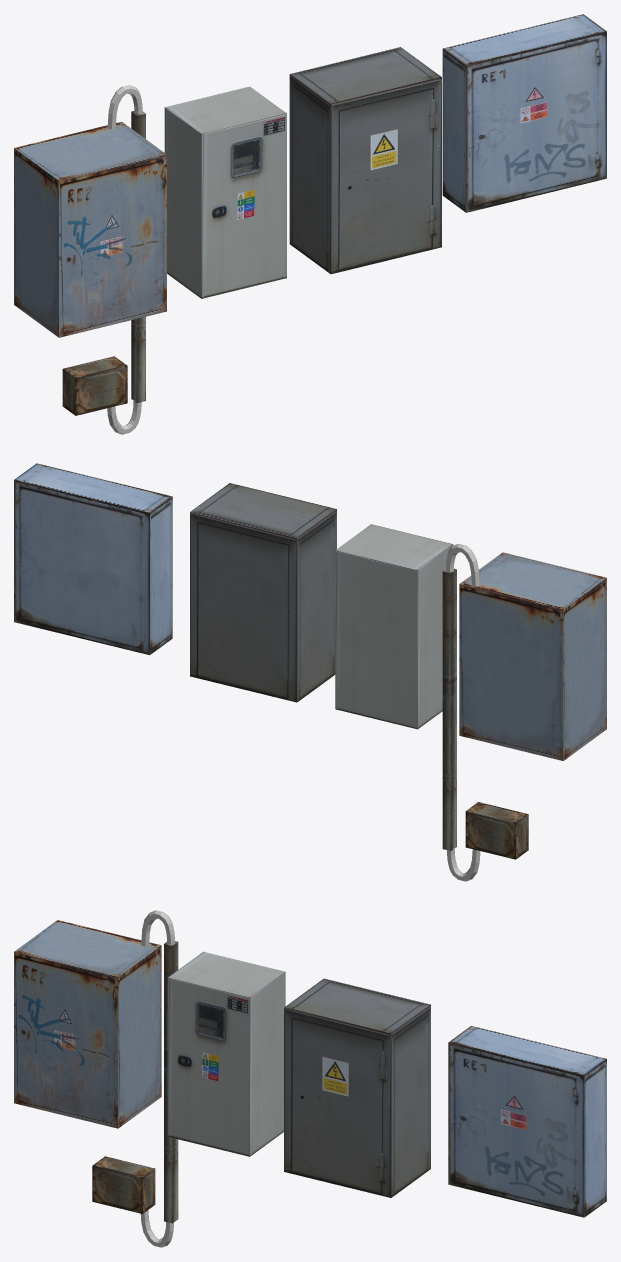
File: powerboxes.fbx
3 views of the same model, one above another, from view 1: azimuth 30°, elevation 25°; view 2: azimuth 150°, elevation 25°; view 3: azimuth 330°, elevation 25° (orthographic). The views are drawn at different scales.
Parts seen in each view (by area): view 1: pb1side0, pb2front0, pb4front0, pb3front0, pb4sides0, pb2side0, pb3sides0, pb1front0, Box15, Box10, Cylinder04, Duplicate23; view 2: pb2side0, pb4sides0, pb1front0, pb3sides0, Box10, Box15, Cylinder04, Duplicate23; view 3: pb1side0, pb2front0, pb4front0, pb3front0, pb4sides0, pb2side0, pb3sides0, pb1front0, Box15, Box10, Cylinder04, Duplicate23.
Boxes of the visible parts, left/top/right/bottom form: pb1side0: left=466, top=31, right=606, bottom=212; pb2front0: left=331, top=77, right=441, bottom=274; pb4front0: left=59, top=154, right=166, bottom=337; pb3front0: left=201, top=113, right=286, bottom=298; pb4sides0: left=14, top=121, right=166, bottom=337; pb2side0: left=289, top=47, right=441, bottom=273; pb3sides0: left=164, top=86, right=286, bottom=298; pb1front0: left=442, top=14, right=606, bottom=212; Box15: left=62, top=356, right=127, bottom=415; Box10: left=131, top=111, right=145, bottom=402; Cylinder04: left=107, top=85, right=142, bottom=129; Duplicate23: left=107, top=399, right=141, bottom=434; pb2side0: left=190, top=483, right=336, bottom=702; pb4sides0: left=459, top=552, right=606, bottom=760; pb1front0: left=14, top=463, right=172, bottom=655; pb3sides0: left=335, top=524, right=453, bottom=729; Box10: left=442, top=568, right=456, bottom=850; Box15: left=465, top=802, right=528, bottom=859; Cylinder04: left=446, top=543, right=479, bottom=586; Duplicate23: left=447, top=848, right=480, bottom=881; pb1side0: left=448, top=1042, right=584, bottom=1217; pb2front0: left=284, top=1007, right=391, bottom=1197; pb4front0: left=14, top=952, right=118, bottom=1128; pb3front0: left=167, top=978, right=249, bottom=1156; pb4sides0: left=14, top=920, right=161, bottom=1128; pb2side0: left=284, top=978, right=430, bottom=1197; pb3sides0: left=168, top=951, right=285, bottom=1156; pb1front0: left=449, top=1026, right=606, bottom=1217; Box15: left=92, top=1156, right=155, bottom=1213; Box10: left=164, top=941, right=178, bottom=1223; Cylinder04: left=141, top=910, right=174, bottom=946; Duplicate23: left=140, top=1210, right=173, bottom=1247.
Size of the model in its own units: 6.09 by 3.56 by 0.8425.
